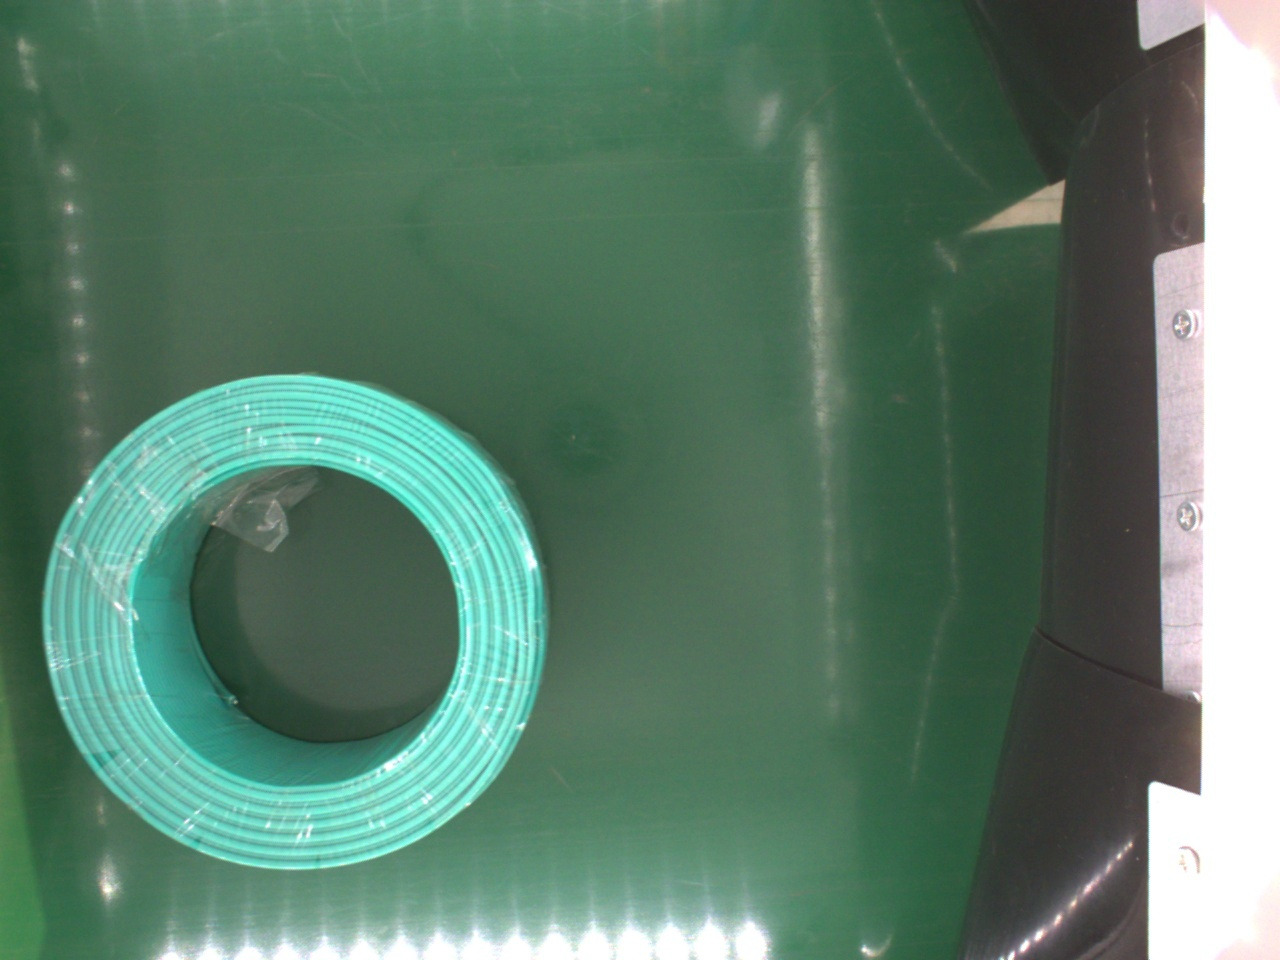green: (31, 378, 549, 872)
